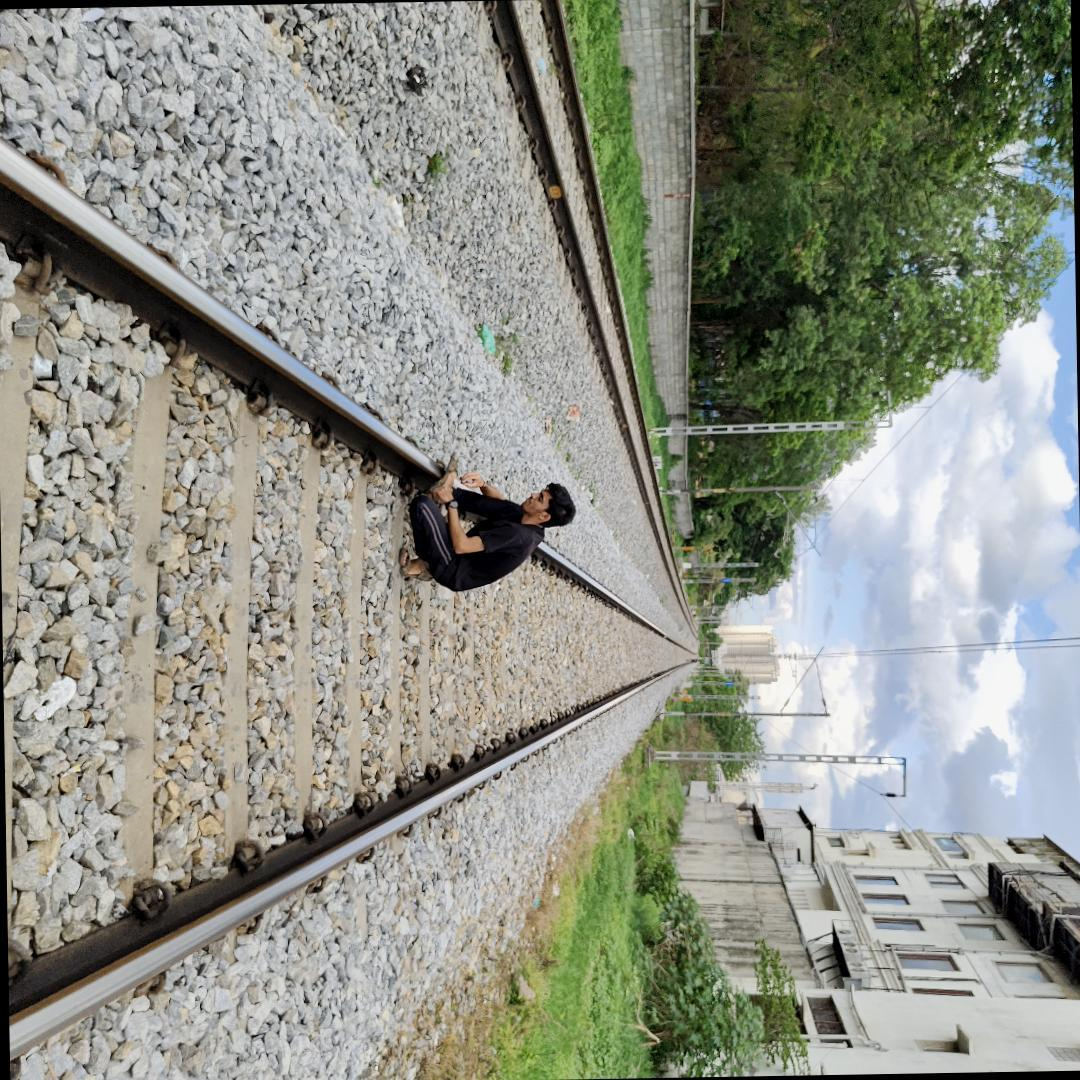sitting: (375, 444, 586, 608)
